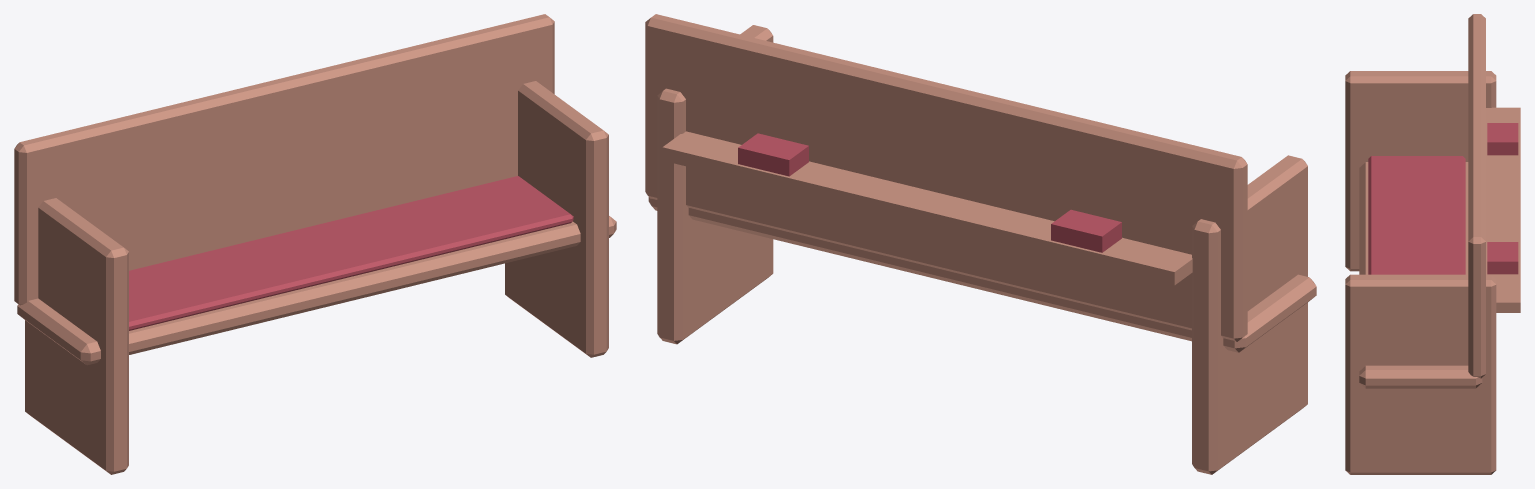
The picture shows the model from 3 angles, left to right: view 1: azimuth 30°, elevation 25°; view 2: azimuth 150°, elevation 25°; view 3: azimuth 270°, elevation 25°; orthographic projection. The views are drawn at different scales.
Parts seen in each view (by area): view 1: Back, Seat cushion, End panel, End panel.001, Seat; view 2: Back, End panel, Book rest, End panel.001, Seat, Hymnal cover.001, Hymnal cover; view 3: End panel.001, End panel, Seat cushion, Back, Book rest, Seat, Hymnal cover, Hymnal cover.001.
Part boxes in pixels (x1=…): Back: x1=14, y1=14, x2=554, y2=305; Seat cushion: x1=129, y1=176, x2=573, y2=330; End panel: x1=25, y1=198, x2=128, y2=474; End panel.001: x1=505, y1=81, x2=608, y2=357; Seat: x1=17, y1=216, x2=616, y2=365; Back: x1=645, y1=14, x2=1247, y2=341; End panel: x1=1192, y1=155, x2=1307, y2=474; Book rest: x1=662, y1=131, x2=1192, y2=285; End panel.001: x1=657, y1=25, x2=773, y2=344; Seat: x1=648, y1=197, x2=1316, y2=352; Hymnal cover.001: x1=738, y1=133, x2=808, y2=176; Hymnal cover: x1=1051, y1=209, x2=1121, y2=252; End panel.001: x1=1345, y1=274, x2=1496, y2=474; End panel: x1=1345, y1=71, x2=1496, y2=271; Seat cushion: x1=1368, y1=156, x2=1465, y2=274; Back: x1=1468, y1=14, x2=1485, y2=378; Book rest: x1=1486, y1=107, x2=1520, y2=312; Seat: x1=1359, y1=162, x2=1482, y2=388; Hymnal cover: x1=1487, y1=123, x2=1518, y2=155; Hymnal cover.001: x1=1487, y1=242, x2=1518, y2=274.
Size of the model in its own units: 210 by 106 by 68.5.
